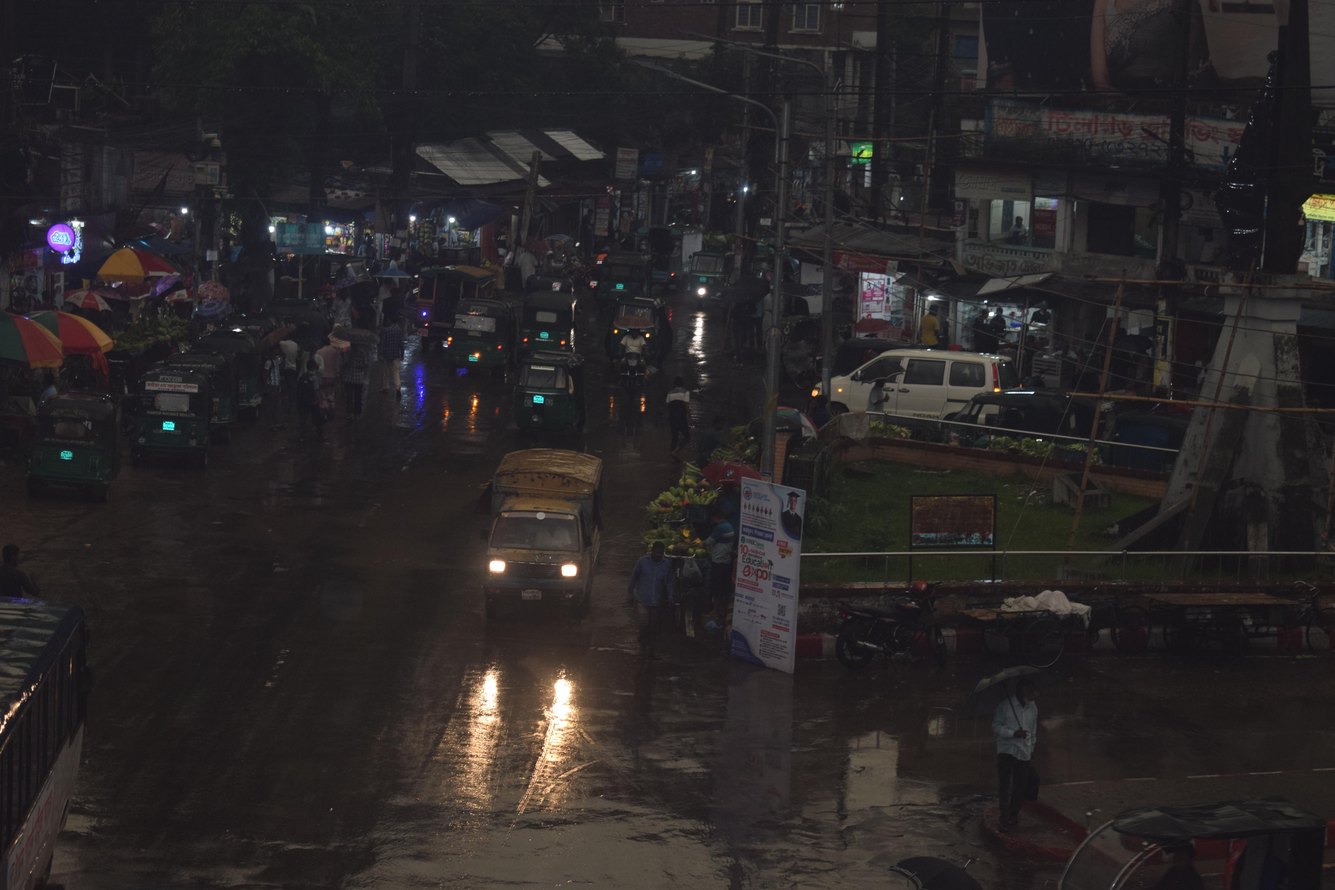Bike: (802, 564, 969, 692), (606, 314, 668, 420)
Bus: (0, 549, 124, 890)
Car: (441, 414, 637, 674), (1015, 784, 1335, 890), (798, 317, 1035, 448)
